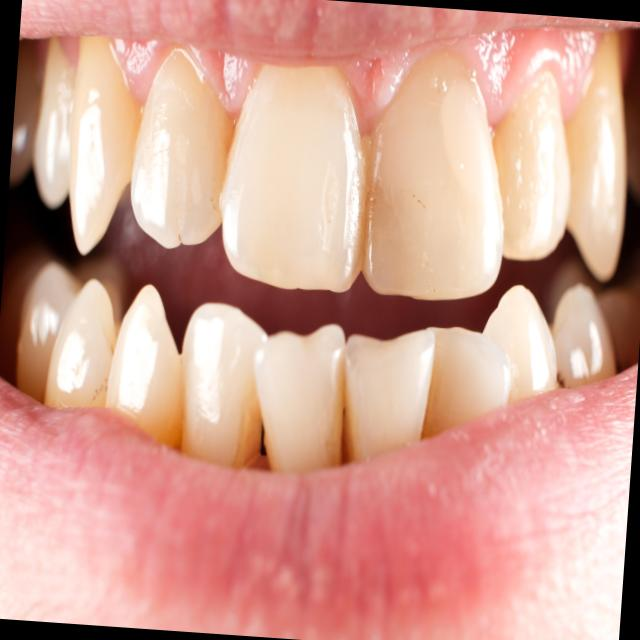Caries: (553, 289, 616, 388)
Tooth: (361, 52, 503, 300), (221, 63, 365, 292), (131, 50, 235, 249), (69, 35, 141, 256), (490, 74, 571, 260), (564, 34, 626, 276), (181, 303, 268, 466), (254, 324, 345, 469), (342, 329, 435, 463), (106, 284, 181, 446), (420, 327, 511, 439), (16, 260, 84, 404), (44, 279, 117, 406), (481, 285, 558, 403), (33, 37, 76, 205)
